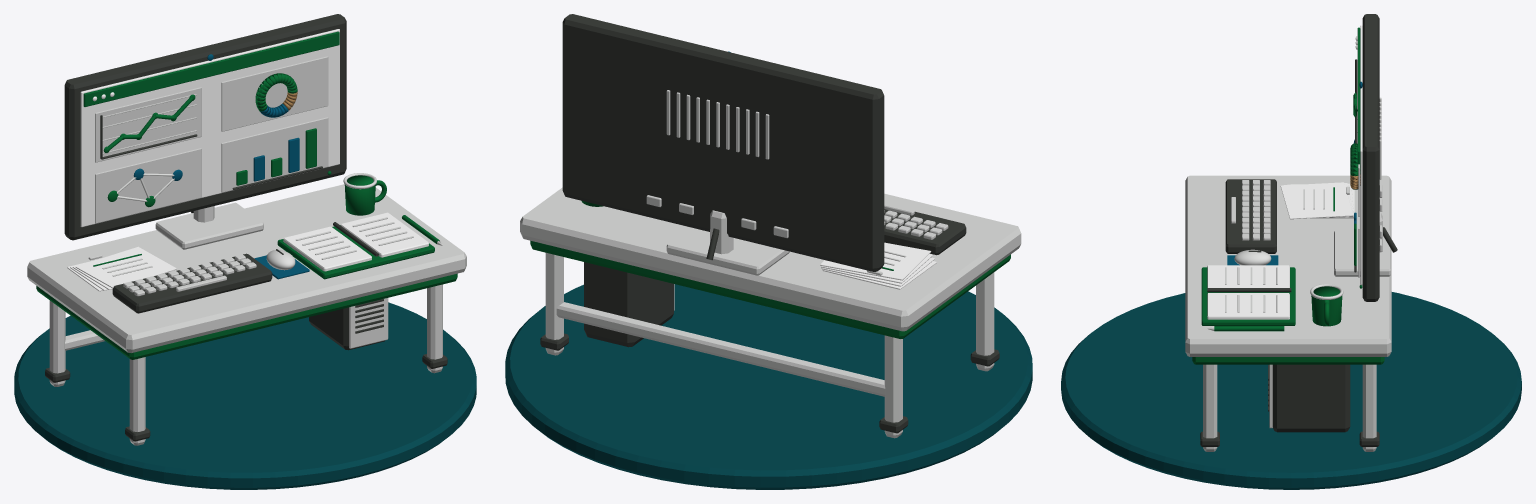
Rendered from research-project.glb.
3 renders of one model, left to right at view 1: azimuth 30°, elevation 25°; view 2: azimuth 150°, elevation 25°; view 3: azimuth 270°, elevation 25°, orthographic. The views are drawn at different scales.
Parts seen in each view (by area): view 1: body, pedestal; view 2: body, pedestal; view 3: pedestal, body.
Boxes of the visible parts, bbox=[...] form: body: bbox=[27, 14, 466, 445]; pedestal: bbox=[14, 302, 476, 489]; body: bbox=[520, 14, 1021, 438]; pedestal: bbox=[505, 284, 1032, 489]; pedestal: bbox=[1061, 292, 1521, 489]; body: bbox=[1185, 14, 1397, 451].
Bounding box in the file's own units: 4.4 × 3.31 × 4.4.
